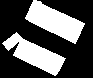parkingspot: (25, 0, 84, 43), (13, 38, 65, 75), (2, 32, 22, 50)
